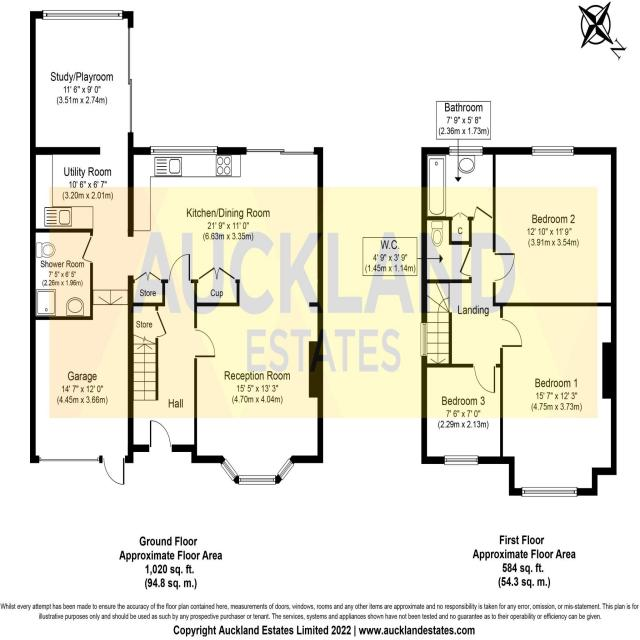DOOR: (147, 418, 173, 452), (493, 250, 516, 284), (472, 363, 497, 394), (167, 253, 192, 283), (500, 317, 523, 349), (194, 328, 216, 360), (459, 246, 472, 278), (80, 235, 93, 263), (473, 205, 493, 221)
ROOM: (128, 146, 323, 485), (500, 302, 617, 497), (493, 147, 617, 307), (421, 363, 503, 465)
SLIDING DOOR: (243, 142, 316, 159)
WINDOW: (220, 456, 296, 485), (42, 9, 124, 20), (150, 145, 218, 155), (521, 487, 578, 497), (531, 145, 576, 157), (444, 455, 479, 466), (449, 146, 483, 156), (420, 322, 428, 357)
